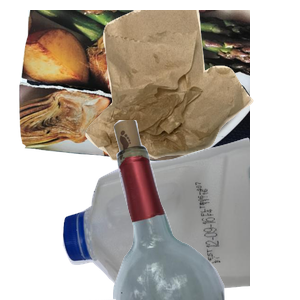glass: (89, 120, 300, 300)
paper: (16, 10, 256, 172)
plastic: (60, 135, 300, 300)
trash: (83, 10, 300, 163)
